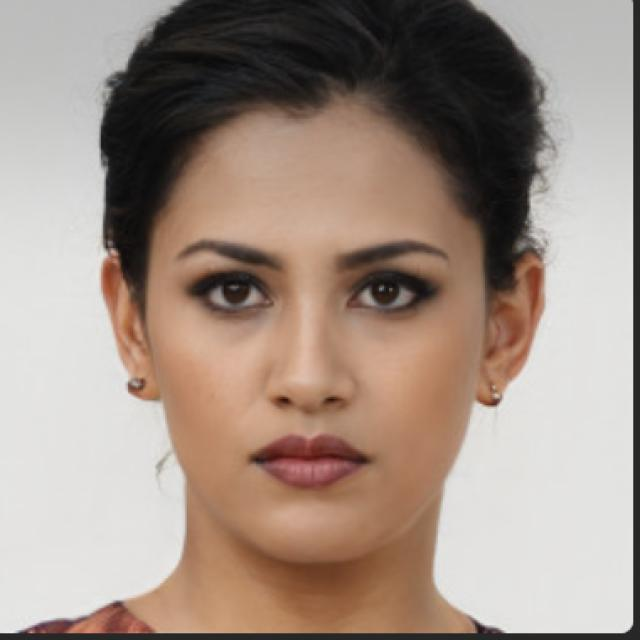natural: (78, 1, 552, 584)
